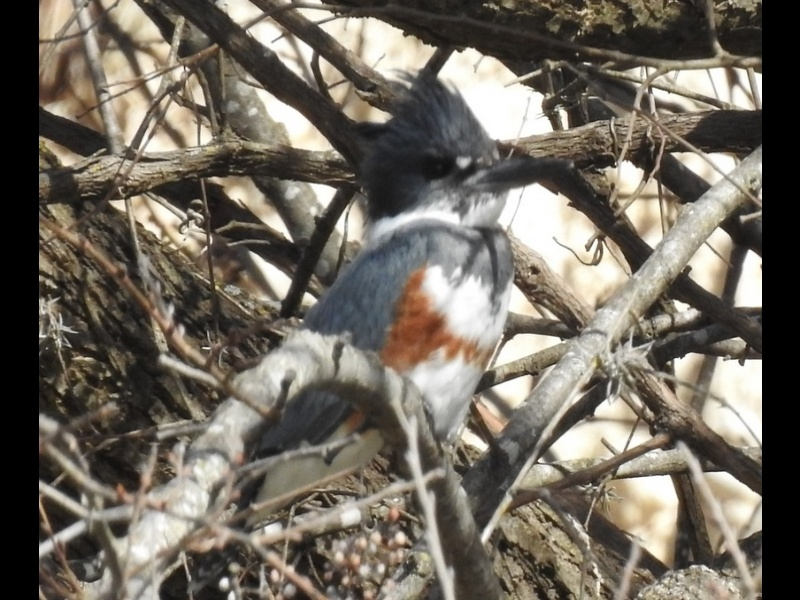kingfisher: (214, 65, 584, 542)
